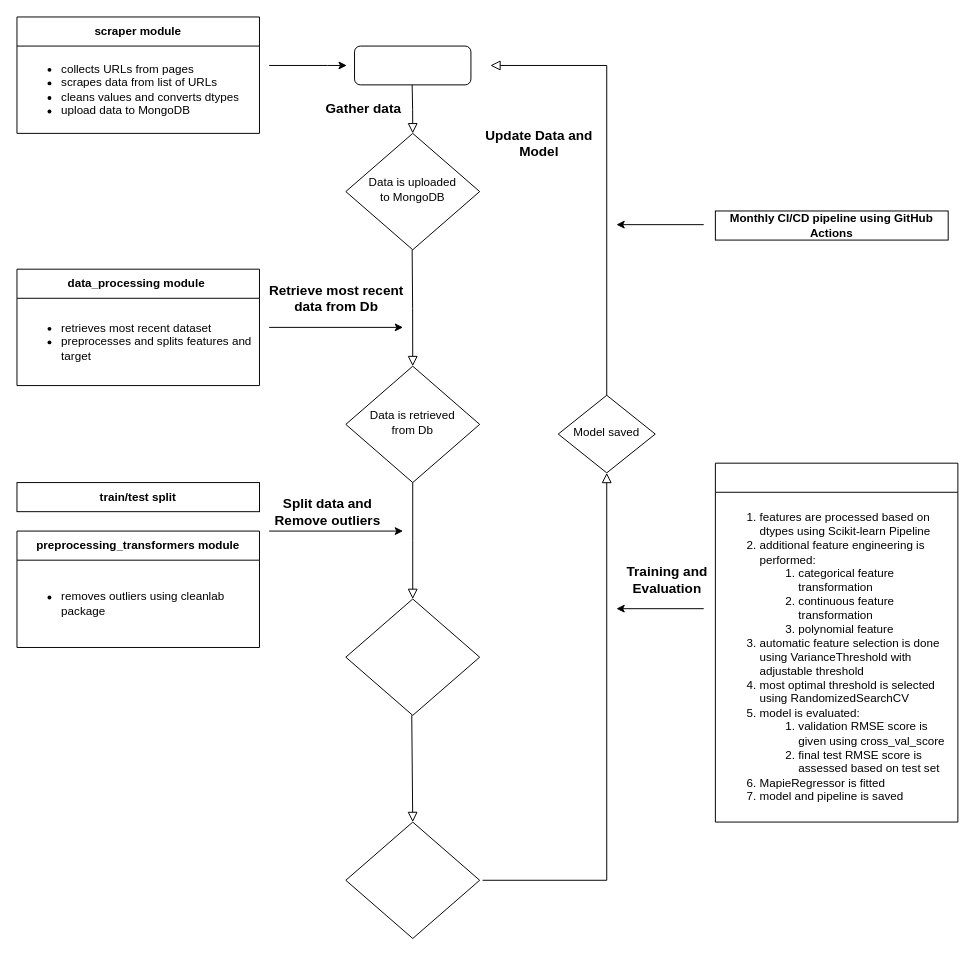
This 975x955 diagram has some shape labels left out. The shapes that lost their labels are listed below. From the top down, each one's box as (x1, y1, x2, y2) in pixels, then its label:
(354, 45, 471, 85): Data is Scraped Using requests-html
(345, 598, 480, 715): Labeling errors addressed
(714, 462, 958, 822): model module
(345, 821, 480, 938): Data is ready for training
